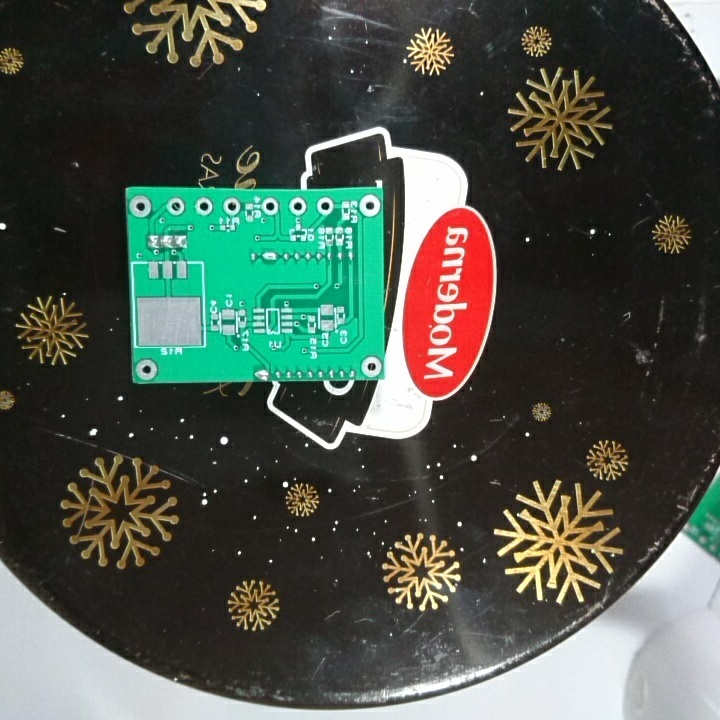F: (356, 192, 382, 219), (134, 357, 161, 383), (126, 193, 154, 218), (359, 354, 383, 378), (191, 196, 215, 219), (219, 195, 243, 218), (163, 196, 186, 218), (286, 196, 308, 217), (314, 194, 335, 216), (259, 195, 278, 218)
P: (251, 366, 273, 383), (259, 249, 279, 264)
